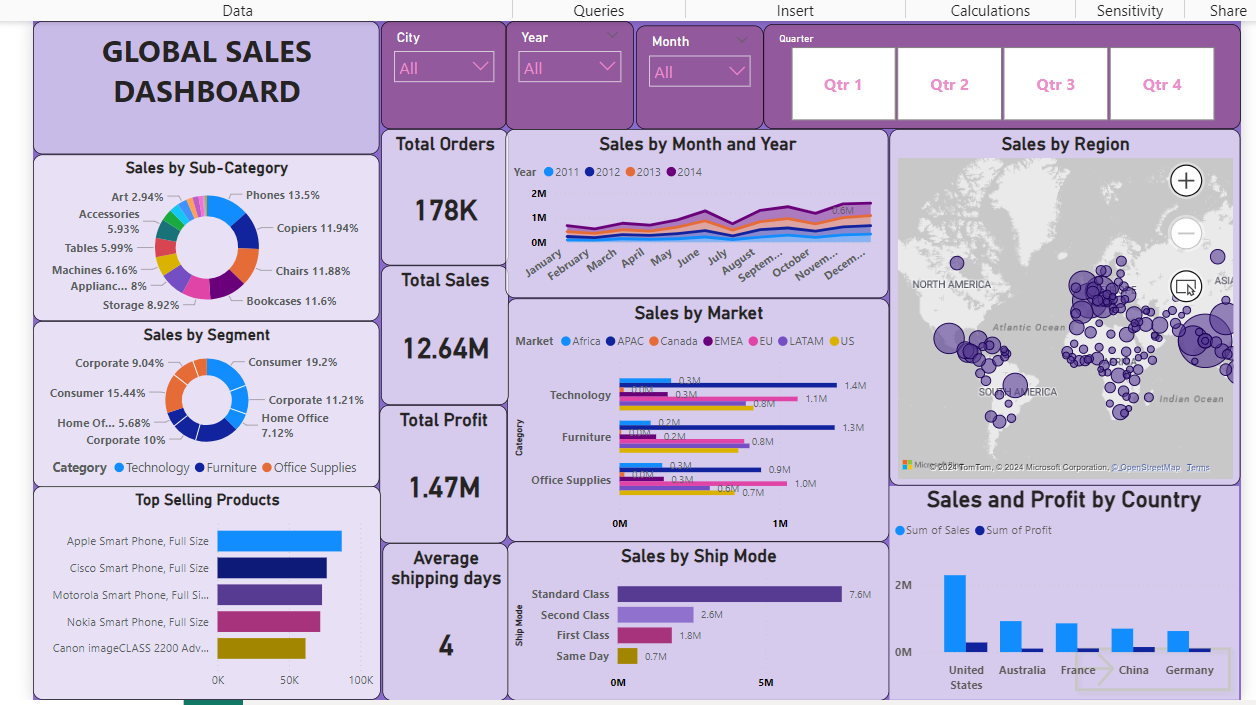

The dashboard page shown, as its layout file describes it:
{"tool":"powerbi","page":{"name":"Sales Dashboard","canvas":[1280,720],"ordinal":0},"visuals":[{"type":"textbox","box":[0,0,367.4,141.6],"z":0},{"type":"clusteredBarChart","title":"Sales by Ship Mode","fields":{"Y":["Sum(Orders.Sales)"],"Category":["Orders.Ship Mode"]},"box":[502.6,551.9,405.6,168.6],"z":1000},{"type":"clusteredBarChart","title":"Sales by Category","fields":{"Y":["Sum(Orders.Sales)"],"Category":["Orders.Category"]},"box":[908.2,551.9,372.2,168],"z":2000},{"type":"clusteredBarChart","title":"Sales by Market","fields":{"Y":["Sum(Orders.Sales)"],"Category":["Orders.Category"],"Series":["Orders.Market"]},"box":[502.6,294.3,405.6,257.7],"z":3000},{"type":"map","title":"Sales by Country","fields":{"Category":["Orders.Country"],"Size":["Sum(Orders.Sales)"]},"box":[908.2,114.5,372.2,437.4],"z":4000},{"type":"donutChart","title":"Sales by Sub-Category","fields":{"Category":["Orders.Sub-Category"],"Y":["Sum(Orders.Sales)"]},"box":[0,141.6,367.4,176.6],"z":5000},{"type":"donutChart","title":"Sales by Segment","fields":{"Category":["Orders.Category"],"Y":["Sum(Orders.Sales)"],"Series":["Orders.Segment"]},"box":[0,318.1,367.4,176.6],"z":6000},{"type":"card","title":"Total Orders","fields":{"Values":["Sum(Orders.Quantity)"]},"box":[369,114.5,135.2,144.7],"z":7000},{"type":"card","title":"Total Sales","fields":{"Values":["Sum(Orders.Sales)"]},"box":[369,259.3,135.2,147.9],"z":8000},{"type":"card","title":"Total Profit","fields":{"Values":["Sum(Orders.Profit)"]},"box":[367.4,407.2,135.2,146.3],"z":9000},{"type":"barChart","title":"Top Selling Products","fields":{"Category":["Orders.Product Name"],"Y":["Sum(Orders.Sales)"]},"box":[0,493.2,368.5,226.8],"z":10000},{"type":"card","title":"Average shipping days","fields":{"Values":["Median(Orders.Delivery days)"]},"box":[370.6,553.5,133.6,167],"z":11000},{"type":"slicer","fields":{"Values":["Orders.City"]},"box":[369,0,133.6,114.5],"z":12000},{"type":"slicer","fields":{"Values":["Orders.Order Date.Variation.Date Hierarchy.Year"]},"box":[502.6,0,133.6,114.5],"z":13000},{"type":"slicer","fields":{"Values":["Orders.Order Date.Variation.Date Hierarchy.Month"]},"box":[639.4,4.8,135.2,109.8],"z":14000},{"type":"slicer","fields":{"Values":["Orders.Order Date.Variation.Date Hierarchy.Quarter"]},"box":[774.6,3.2,505.8,111.3],"z":15000},{"type":"stackedAreaChart","title":"Sales by Month and Year","fields":{"Y":["Sum(Orders.Sales)"],"Category":["Orders.Order Date.Variation.Date Hierarchy.Month"],"Series":["Orders.Order Date.Variation.Date Hierarchy.Year"]},"box":[502.6,114.5,405.6,179.7],"z":16000}]}

Visuals, with their boxes in screenshot pixels (x1, y1, x2, y2):
textbox: region(36, 16, 379, 149)
"Sales by Ship Mode" clusteredBarChart: region(505, 531, 884, 689)
"Sales by Category" clusteredBarChart: region(884, 531, 1231, 688)
"Sales by Market" clusteredBarChart: region(505, 291, 884, 532)
"Sales by Country" map: region(884, 123, 1231, 531)
"Sales by Sub-Category" donutChart: region(36, 149, 379, 313)
"Sales by Segment" donutChart: region(36, 313, 379, 478)
"Total Orders" card: region(380, 123, 507, 258)
"Total Sales" card: region(380, 258, 507, 396)
"Total Profit" card: region(379, 396, 505, 533)
"Top Selling Products" barChart: region(36, 477, 380, 688)
"Average shipping days" card: region(382, 533, 507, 689)
slicer - Orders.City: region(380, 16, 505, 123)
slicer - Orders.Order Date.Variation.Date Hierarchy.Year: region(505, 16, 630, 123)
slicer - Orders.Order Date.Variation.Date Hierarchy.Month: region(633, 21, 759, 123)
slicer - Orders.Order Date.Variation.Date Hierarchy.Quarter: region(759, 19, 1231, 123)
"Sales by Month and Year" stackedAreaChart: region(505, 123, 884, 291)
